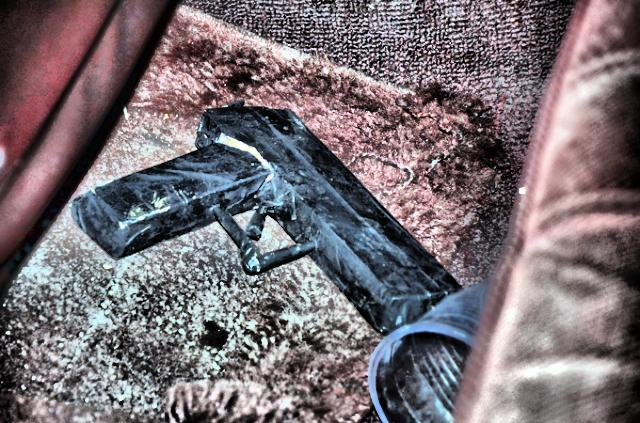pistol: (68, 96, 466, 336)
